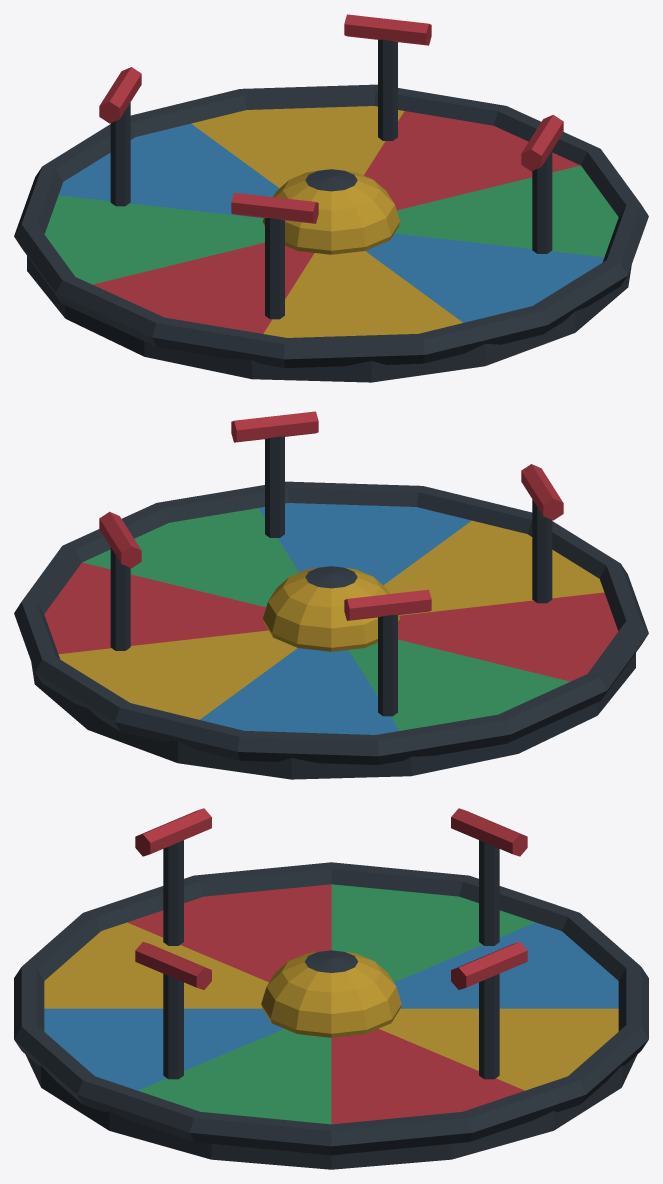
The model's file is Garden_MerryGoRound.glb.
3 views of the same model, one above another, from view 1: azimuth 30°, elevation 25°; view 2: azimuth 150°, elevation 25°; view 3: azimuth 270°, elevation 25° (orthographic). The views are drawn at different scales.
Visible parts, largest first — view 1: SpinWheel; view 2: SpinWheel; view 3: SpinWheel.
Boxes of the visible parts, x1,y1,x2,y2 form: SpinWheel: (14,14,648,382); SpinWheel: (14,411,648,779); SpinWheel: (14,808,648,1169).
Size of the model in its own units: 3.15 by 1.13 by 3.07.
